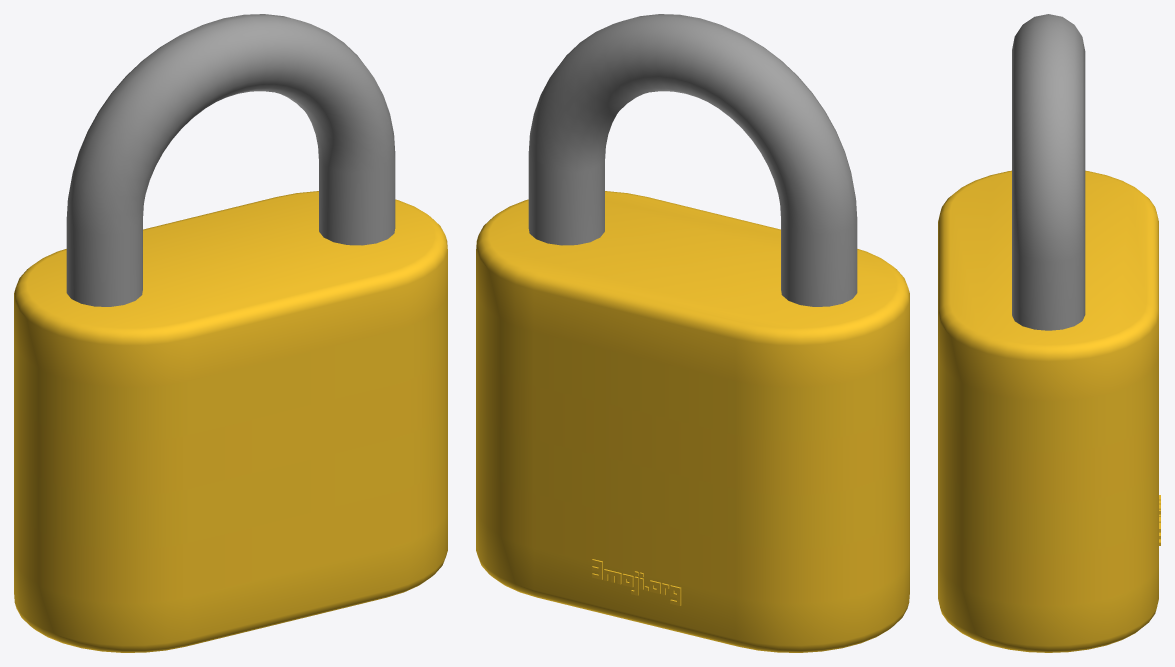
Rendered from locked.glb.
3 renders of one model, left to right at view 1: azimuth 30°, elevation 25°; view 2: azimuth 150°, elevation 25°; view 3: azimuth 270°, elevation 25°, orthographic. The views are drawn at different scales.
Visible parts, largest first — view 1: Circle.2577; view 2: Circle.2577; view 3: Circle.2577.
Part boxes in pixels (x1,y1,x2,y2): Circle.2577: (14, 14, 447, 652); Circle.2577: (476, 14, 909, 652); Circle.2577: (938, 14, 1160, 652).
Size of the model in its own units: 1.6 by 2.17 by 0.8068.
Materials: 1 (1 with a texture image).
